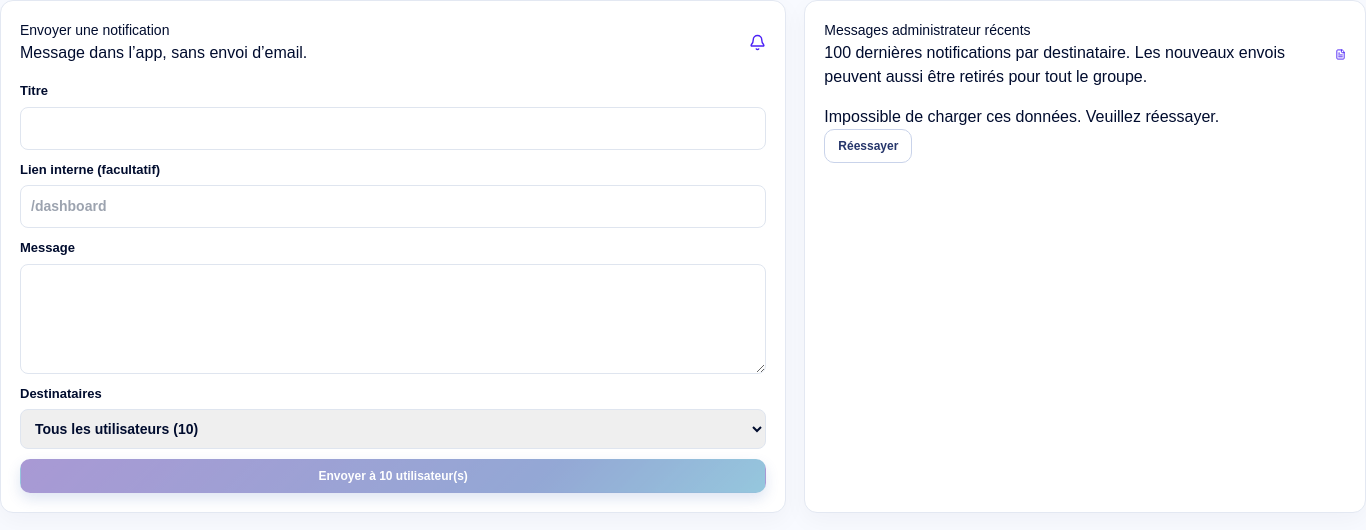
chargement des sections admin côté client › signale l'erreur d'historique des notifications et réessaie
Expected: the message "Impossible de charger ces données. Veuillez réessayer. Réessayer" is shown, [824,108,1219,163]
Step 1. Click the button "Réessayer" → coordinates (868, 146), box [824,129,912,163]
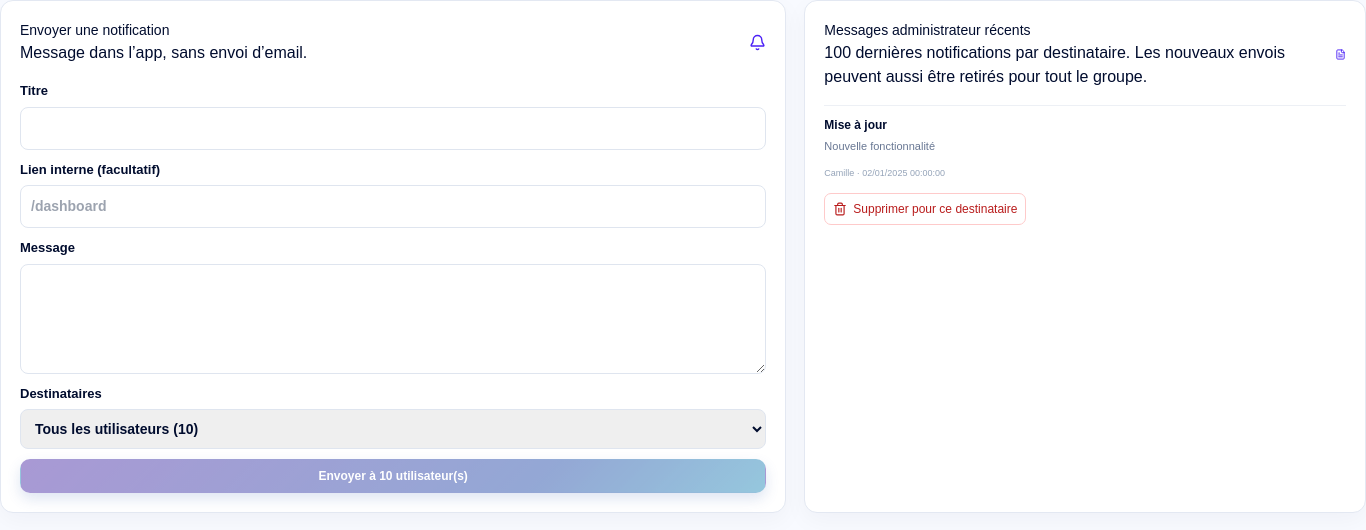
Expected: the text "Mise à jour" is shown, [824,118,887,132]
